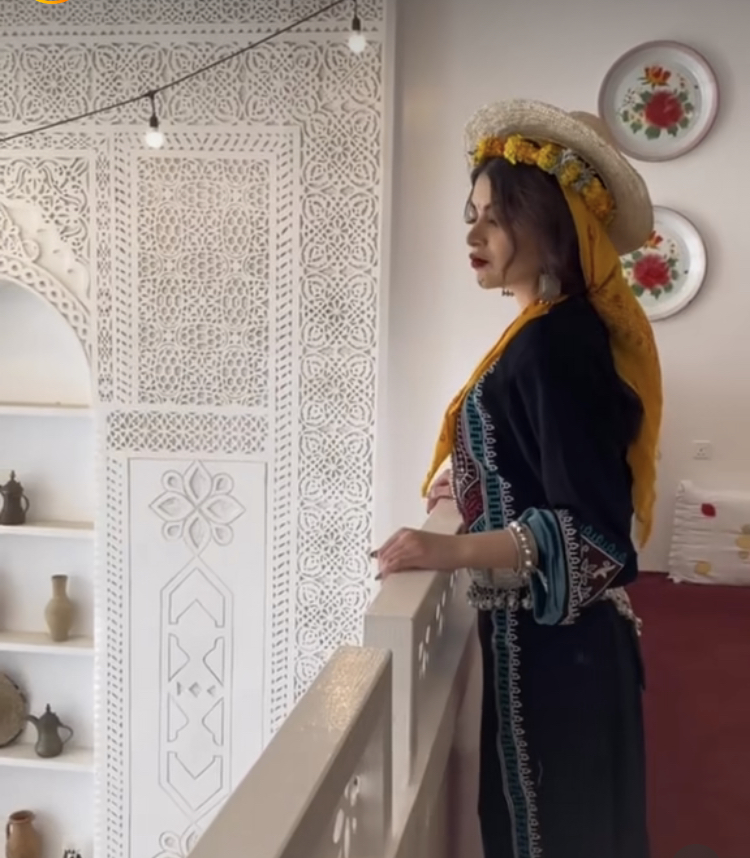Saudi_Founding_Day: (363, 90, 673, 858)
